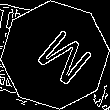M_SW: (21, 21, 89, 89)
